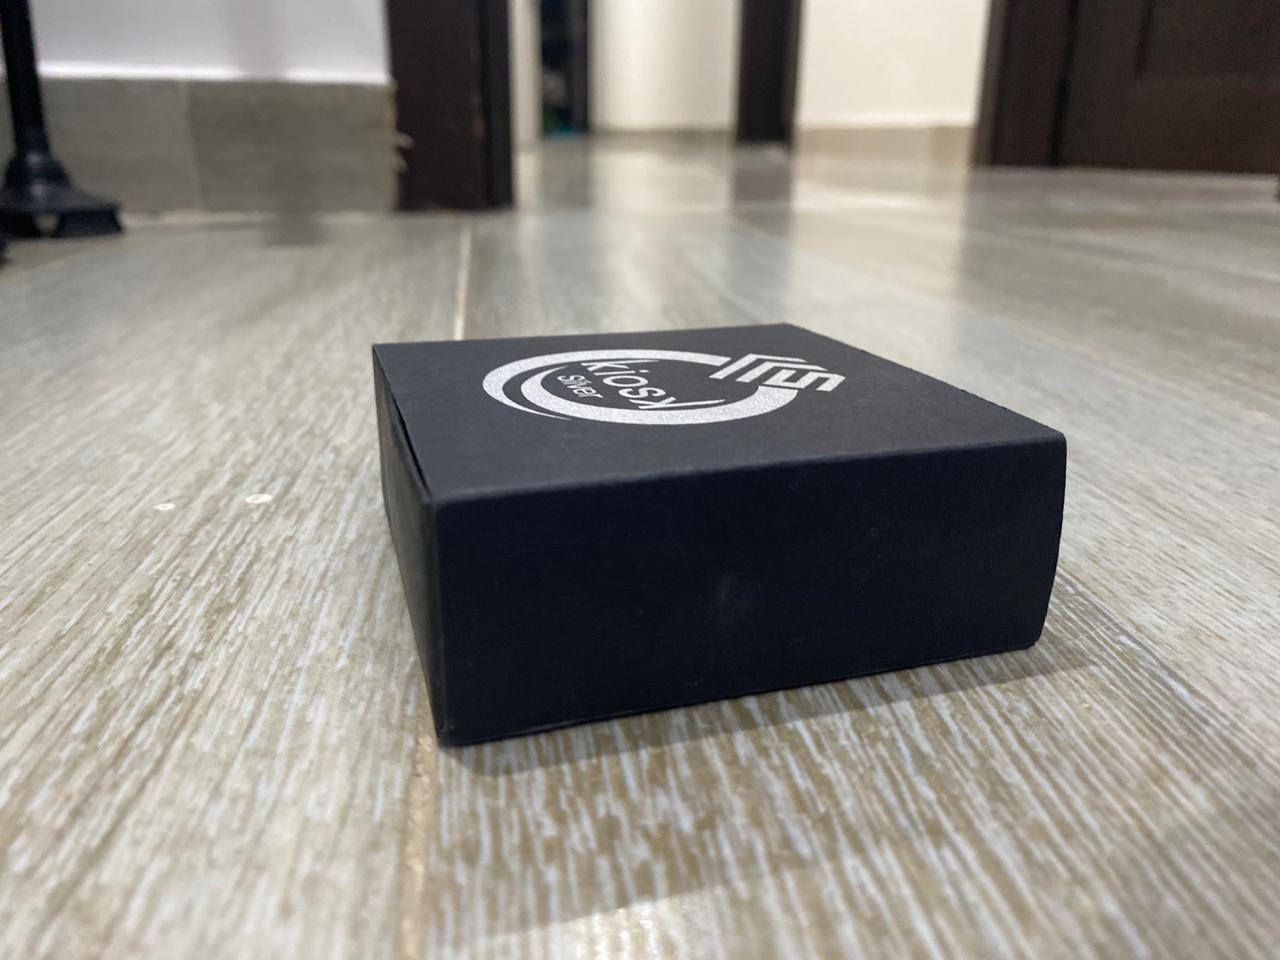Red Box: (356, 320, 1071, 754)
